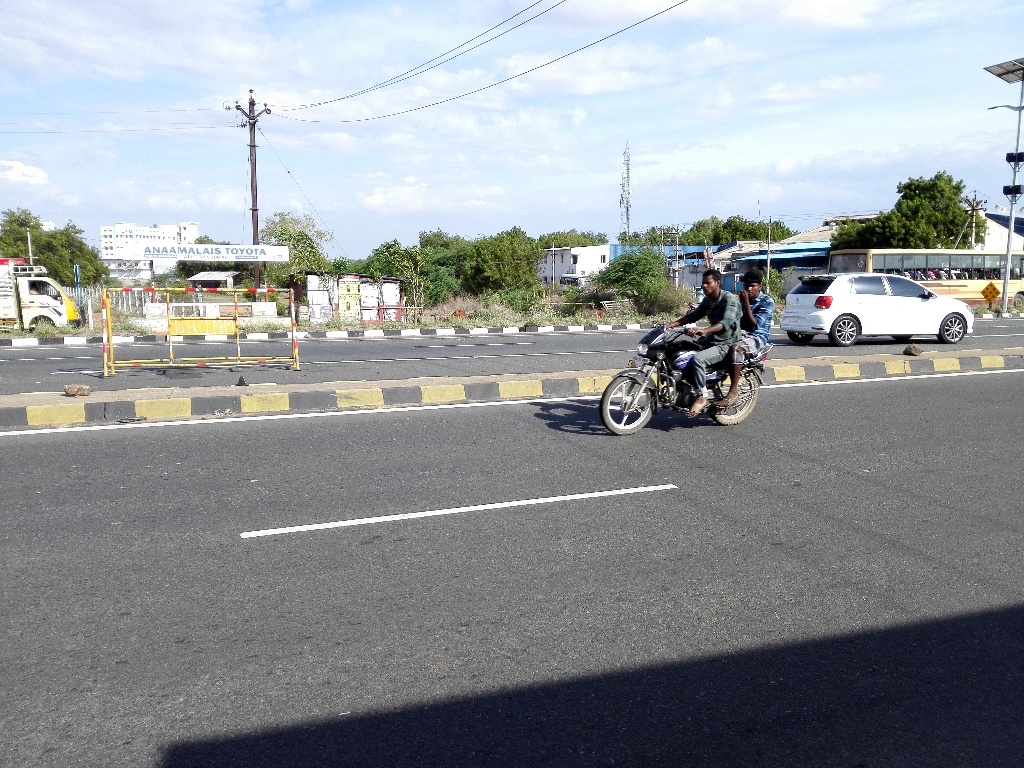biker: (583, 226, 790, 446)
nohelmet: (693, 257, 730, 307), (733, 263, 770, 313)
